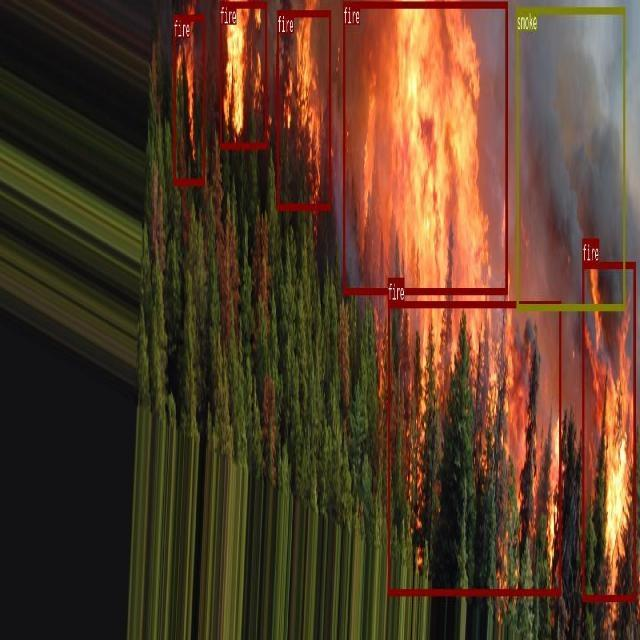fire: (387, 301, 561, 594), (343, 1, 507, 294), (582, 261, 635, 600), (277, 10, 331, 209), (219, 0, 267, 148), (173, 14, 204, 184)
smoke: (517, 6, 625, 309)
